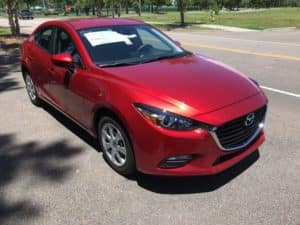Mazda3 Hatchback: (20, 18, 269, 178)
